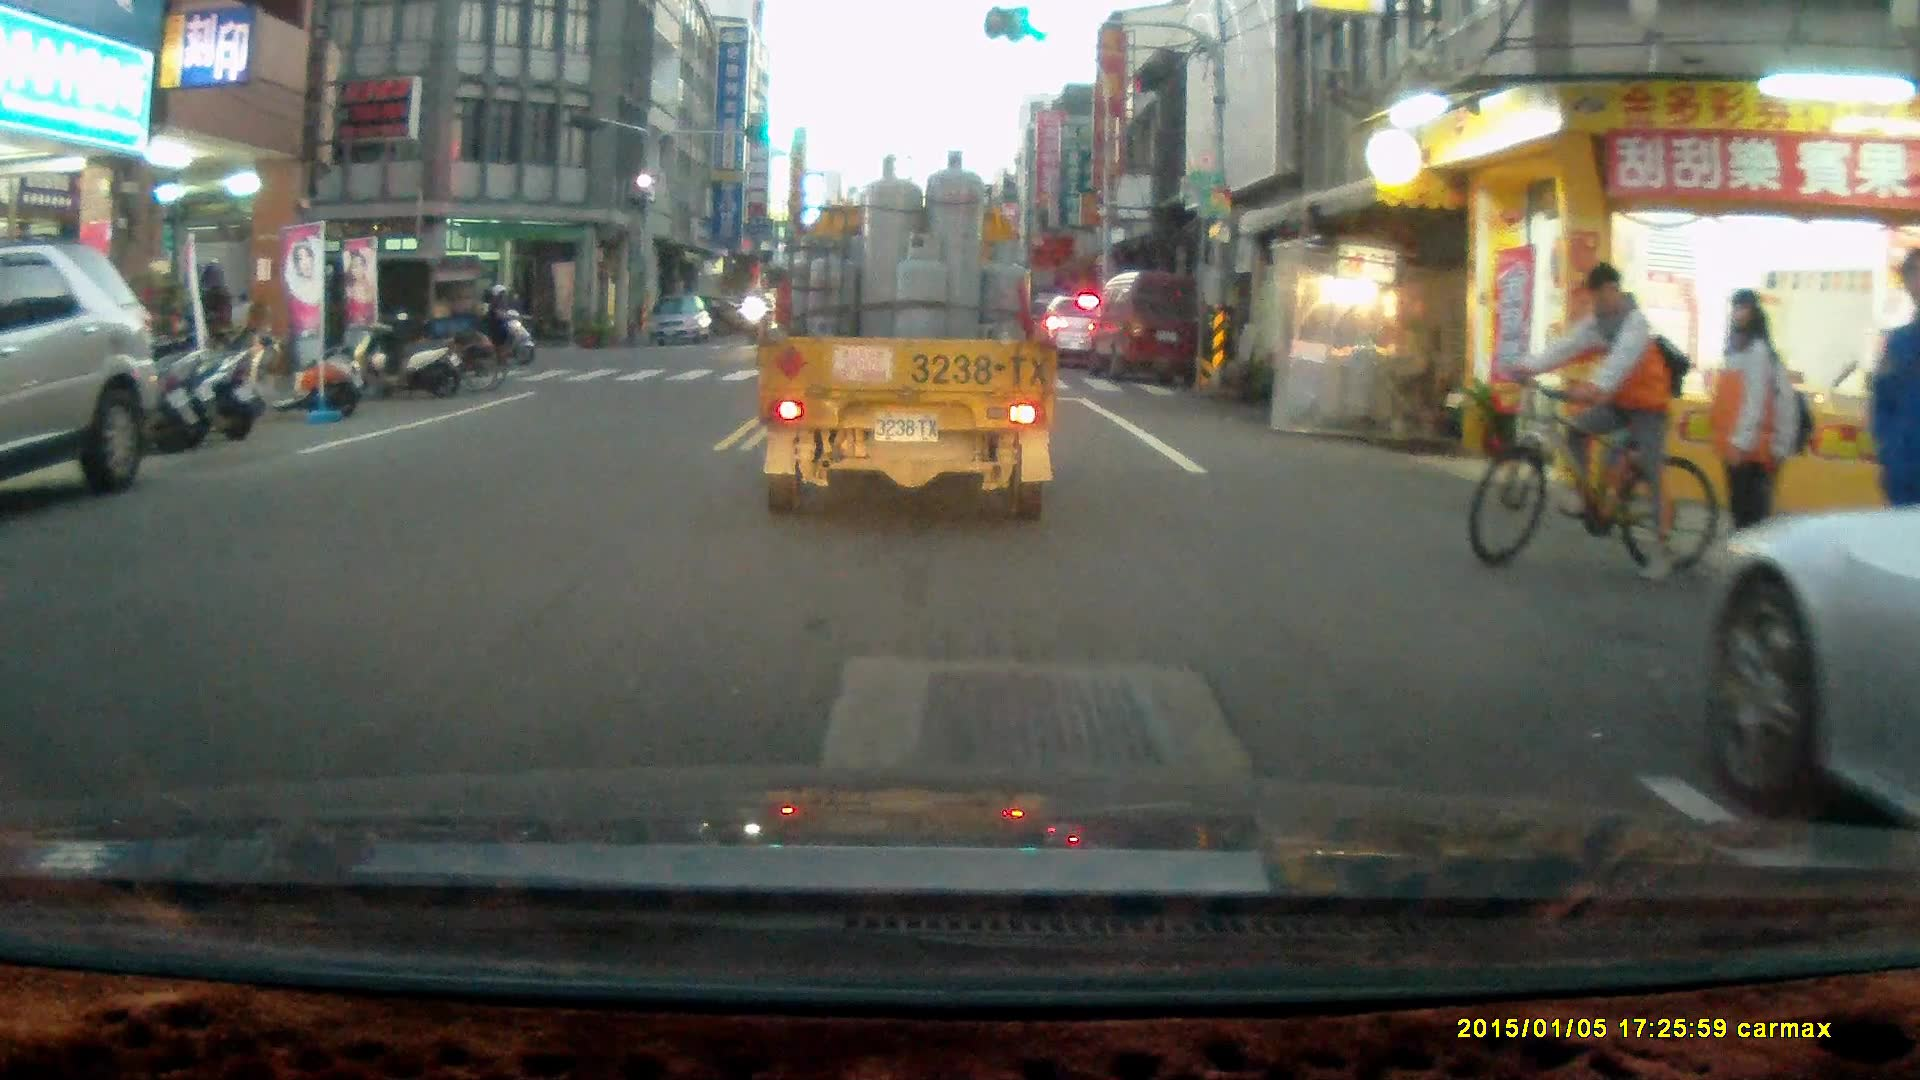pedestrian: (1705, 286, 1777, 590), (1865, 243, 1920, 560), (197, 263, 233, 373)
rider: (1467, 263, 1715, 586), (463, 282, 530, 369)
vehicle: (753, 161, 1043, 520), (1698, 499, 1920, 829), (1, 239, 166, 503), (323, 247, 490, 367), (1089, 269, 1208, 386), (1040, 293, 1108, 366), (646, 294, 714, 350)
